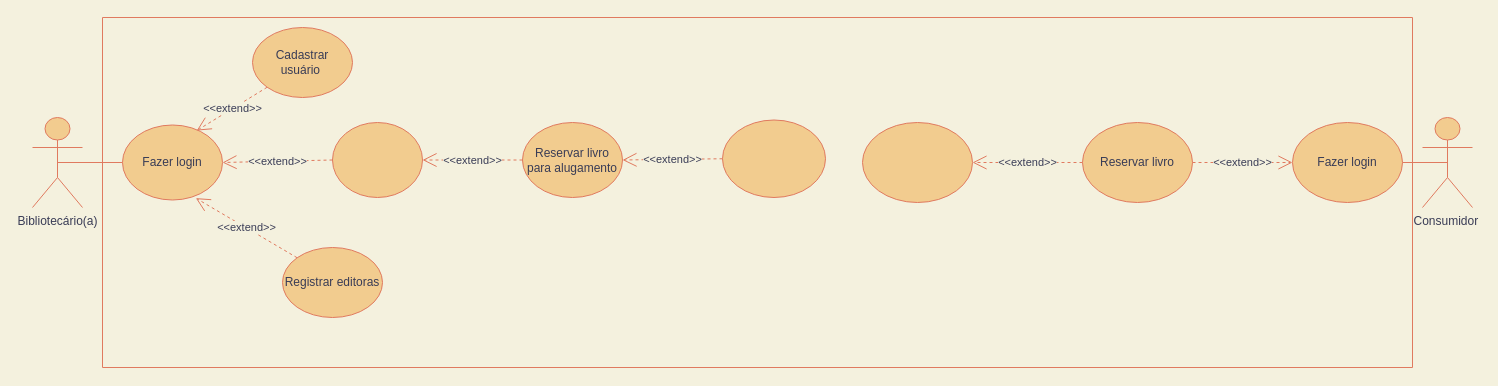
The diagram is 1498 pixels wide and 386 high, and some of its shapes have lost their labels. Each missing label, with the box of its shape:
Entregar livro dentro do prazo de devolução: (862, 122, 972, 202)
Estabelecer prazo de devolução: (722, 119, 826, 198)
Incluir livros: (332, 122, 422, 198)
